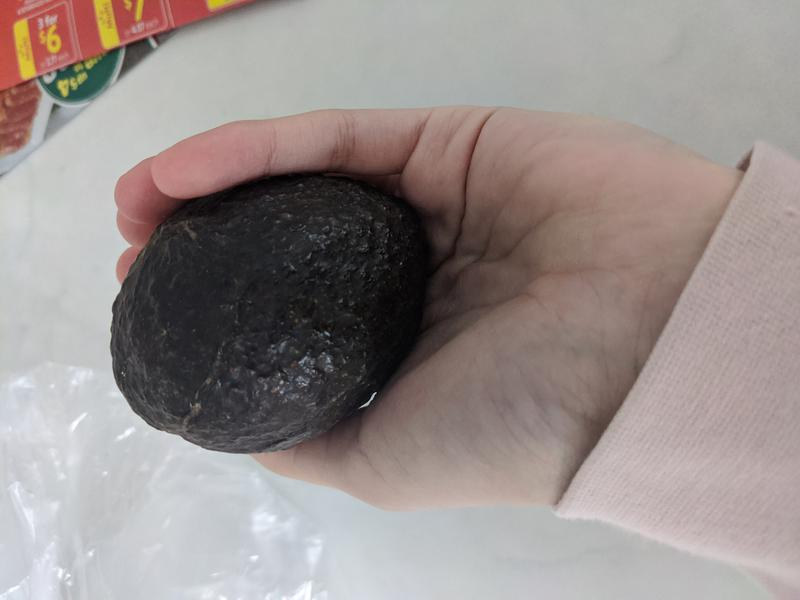avocado: (109, 173, 430, 454)
